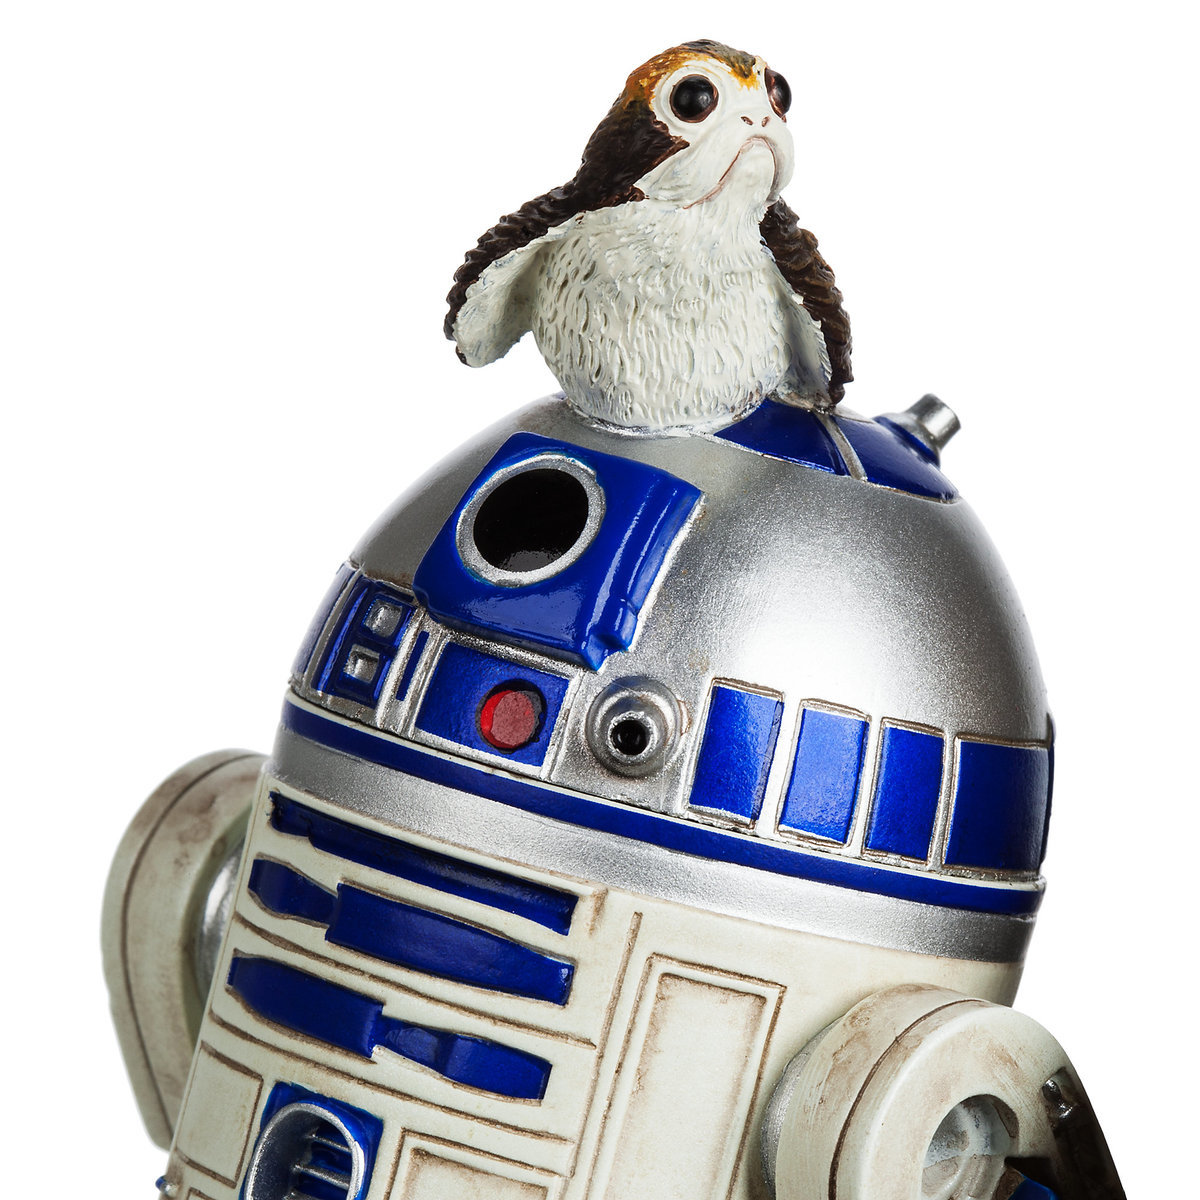r2d2: (138, 405, 1125, 1191)
